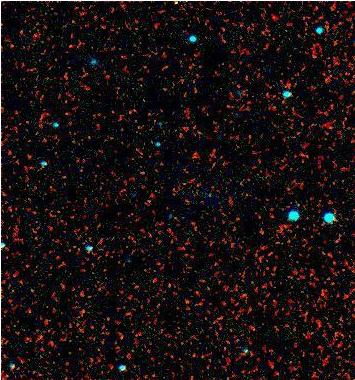star: (157, 0, 187, 18)
